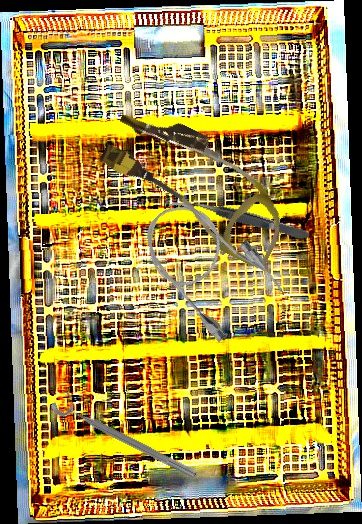Cannula: (88, 97, 305, 272), (128, 182, 291, 349)
Fixation Ring: (48, 387, 204, 483)
Tissue Forceps: (191, 195, 311, 245)
